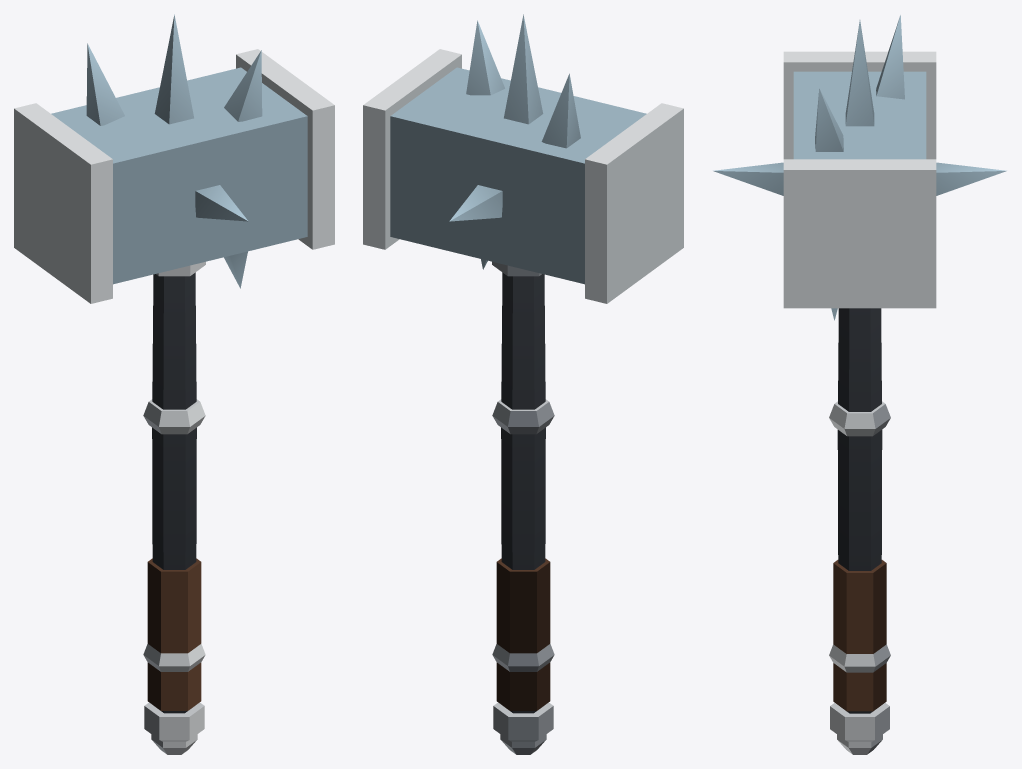
File: uniq_rime_maul.gltf
The picture shows the model from 3 angles, left to right: view 1: azimuth 30°, elevation 25°; view 2: azimuth 150°, elevation 25°; view 3: azimuth 270°, elevation 25°; orthographic projection.
Parts seen in each view (by area): view 1: uniq_rime_maul; view 2: uniq_rime_maul; view 3: uniq_rime_maul.
Part boxes in pixels (x1,y1,x2,y2): uniq_rime_maul: [14, 14, 334, 754]; uniq_rime_maul: [363, 14, 683, 754]; uniq_rime_maul: [713, 15, 1006, 754].
Bounding box in the file's own units: 0.55 × 1.59 × 0.58.
1 material, 1 textured.
